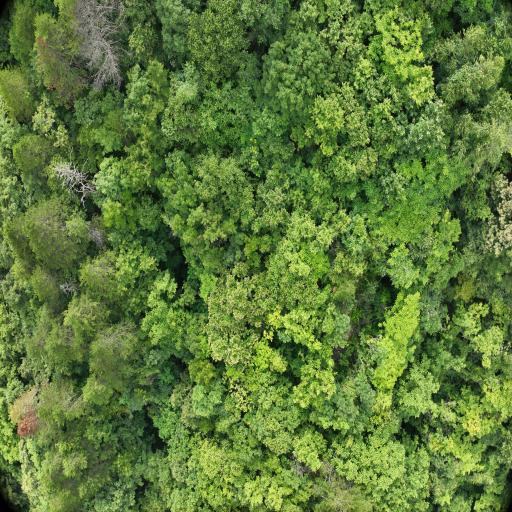dead-tree: (75, 6, 120, 82), (58, 164, 92, 197)
